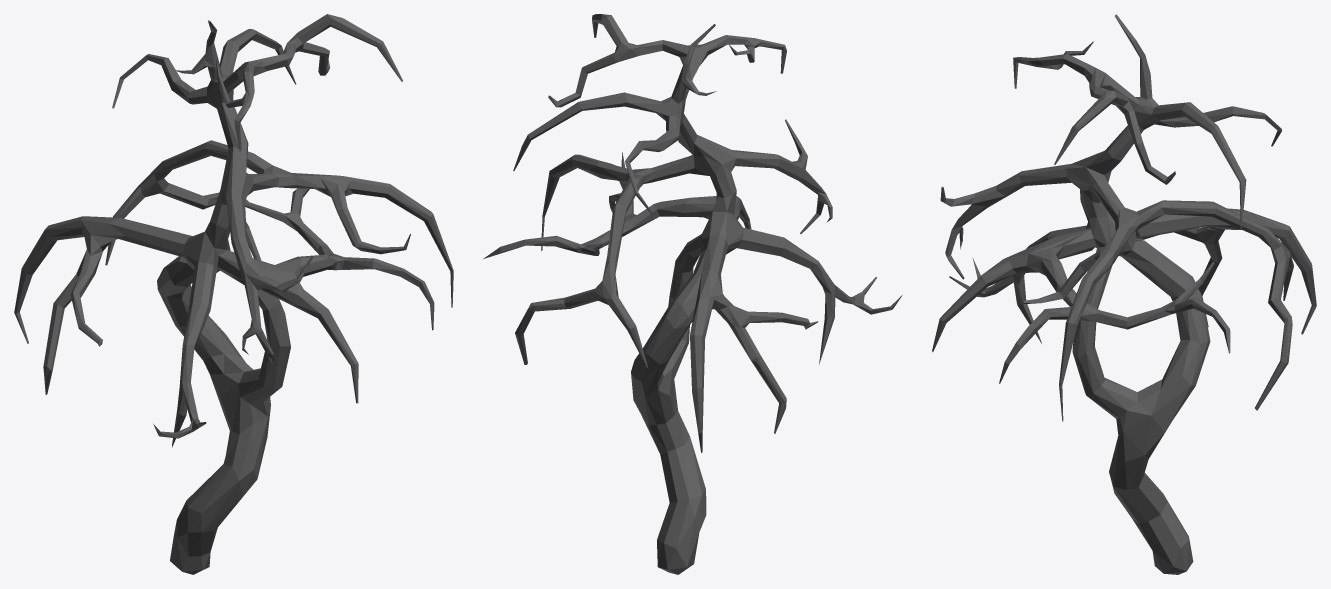
File: HWN20_Tree_08.glb
3 renders of one model, left to right at view 1: azimuth 30°, elevation 25°; view 2: azimuth 150°, elevation 25°; view 3: azimuth 270°, elevation 25°, orthographic. The views are drawn at different scales.
Parts seen in each view (by area): view 1: HWN20_Tree_08; view 2: HWN20_Tree_08; view 3: HWN20_Tree_08.
Part boxes in pixels (left/top/right/bottom): HWN20_Tree_08: left=14, top=14, right=453, bottom=574; HWN20_Tree_08: left=483, top=14, right=902, bottom=574; HWN20_Tree_08: left=932, top=14, right=1316, bottom=574.
Size of what is drawn, in the model's own units: 4.17 by 6.63 by 4.18.
1 material, 1 textured.
